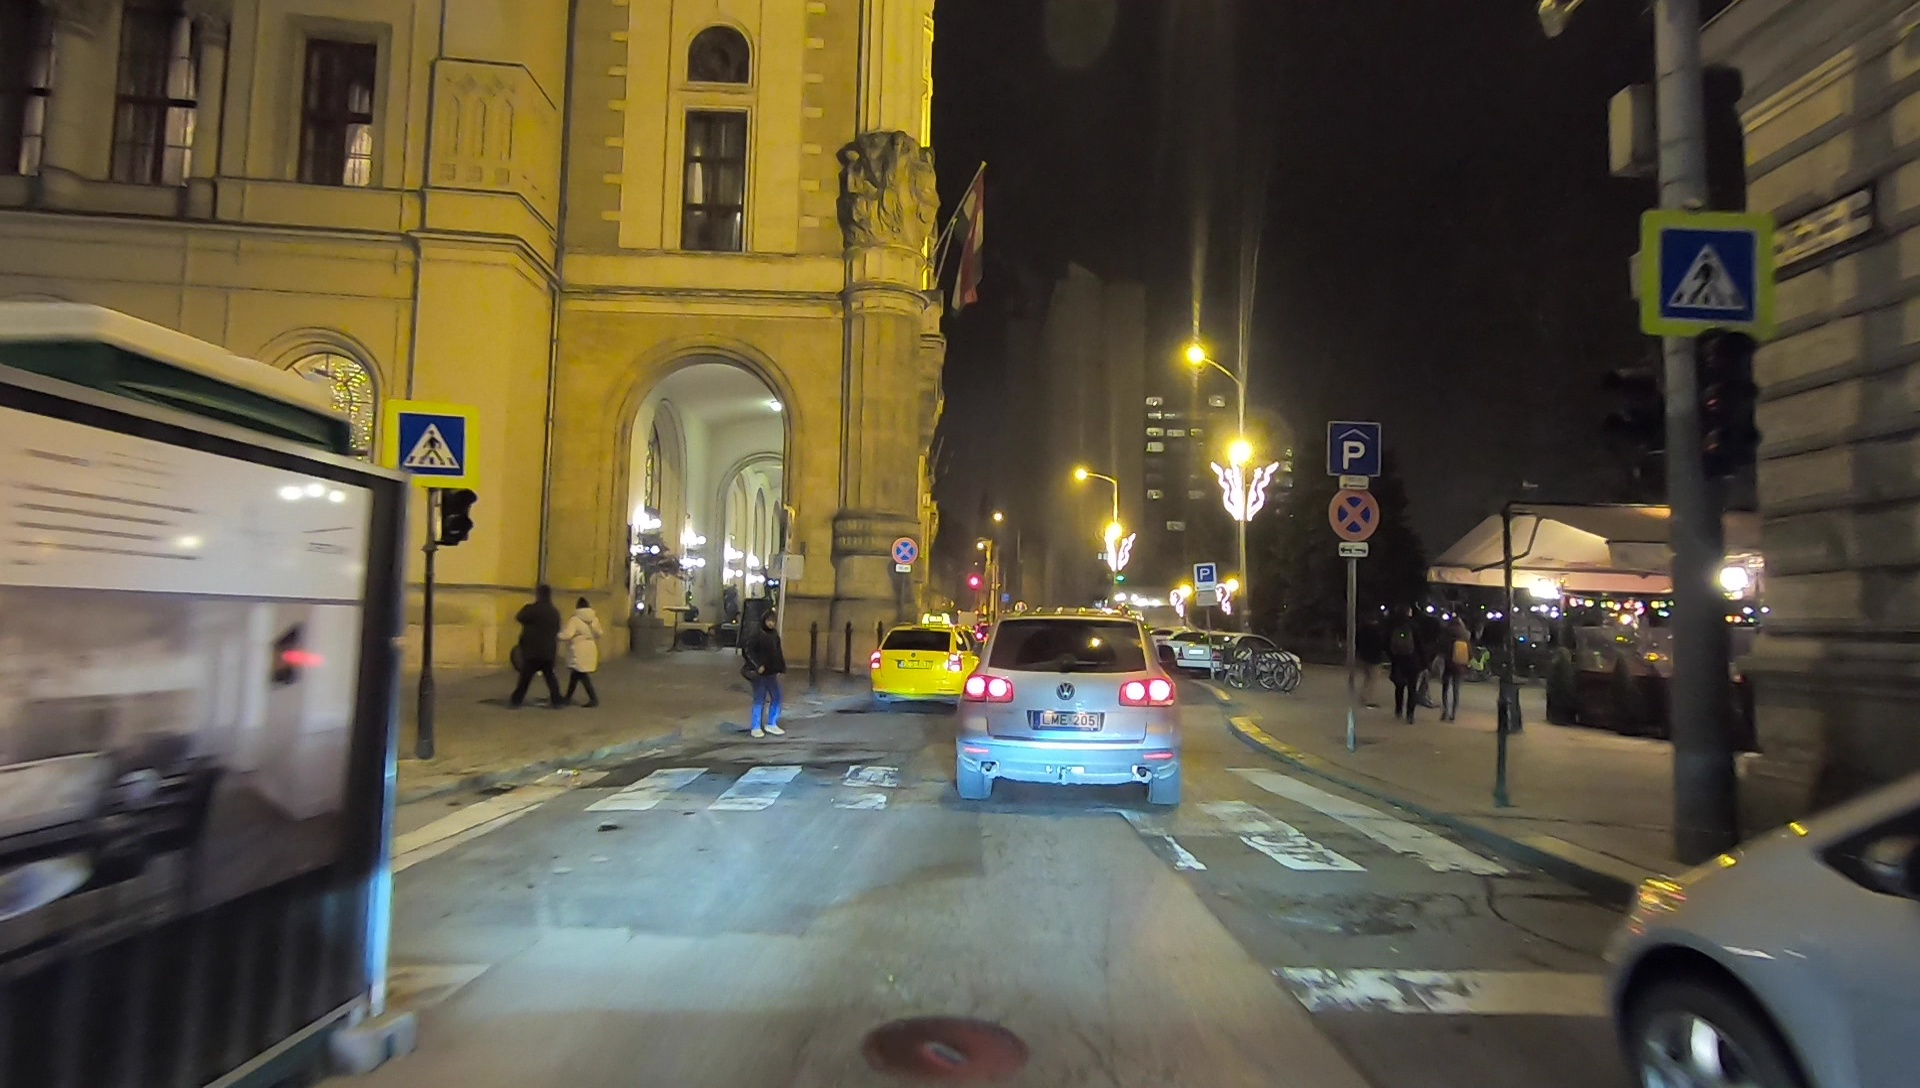person: (509, 584, 562, 707), (745, 610, 785, 741), (561, 598, 603, 707), (1436, 616, 1470, 722), (1389, 603, 1418, 718), (1360, 616, 1386, 713)
